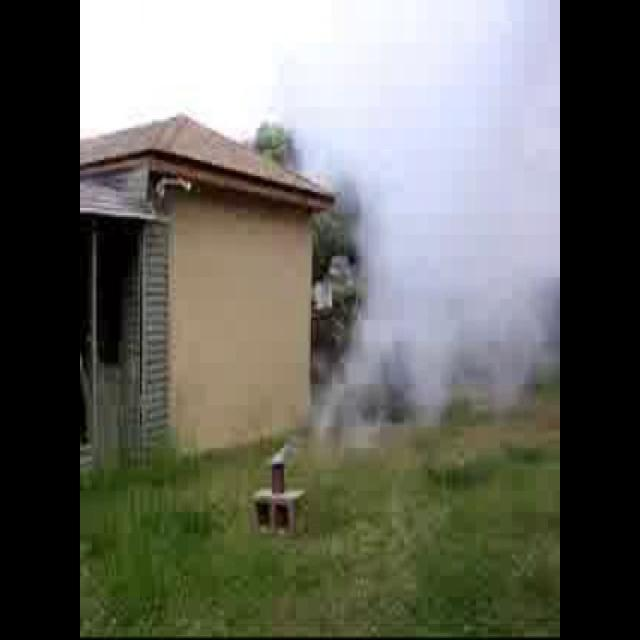Smoke: (289, 0, 560, 466)
